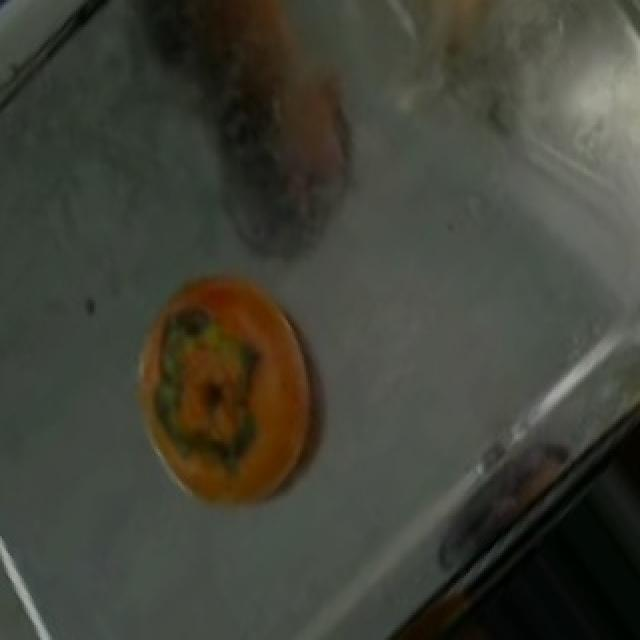Fruit: (118, 260, 344, 536)
